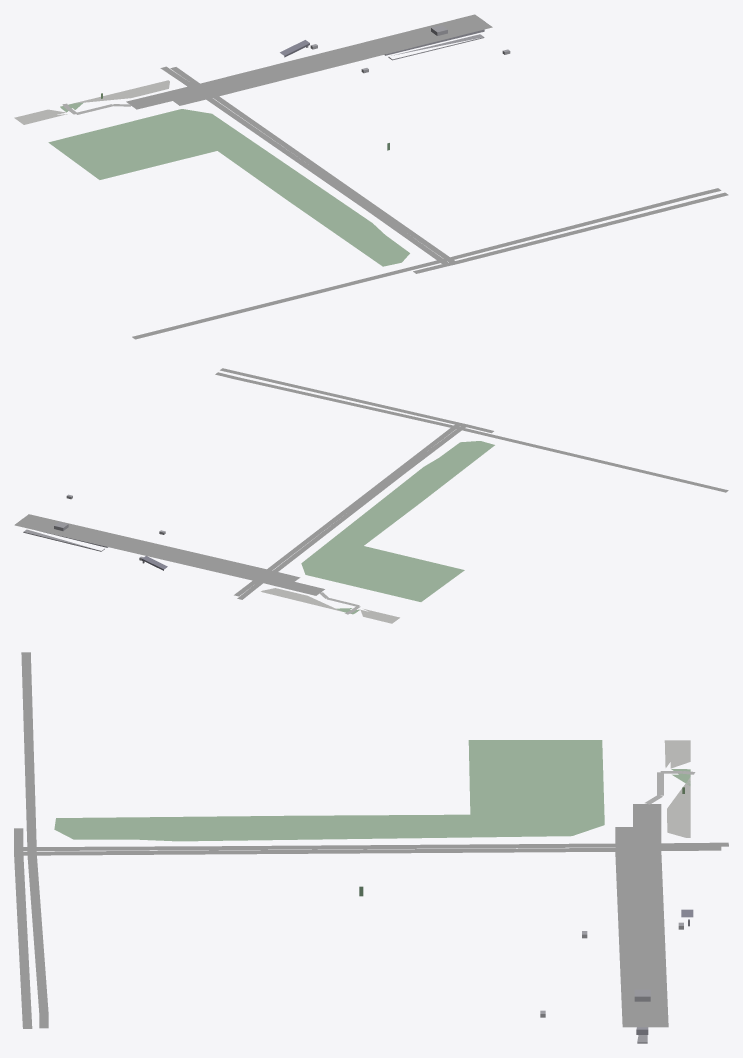
3 views of the same model, one above another, from view 1: azimuth 30°, elevation 25°; view 2: azimuth 150°, elevation 25°; view 3: azimuth 270°, elevation 25° (orthographic). The views are drawn at different scales.
Size of the model in its own units: 661 by 23.77 by 532.
